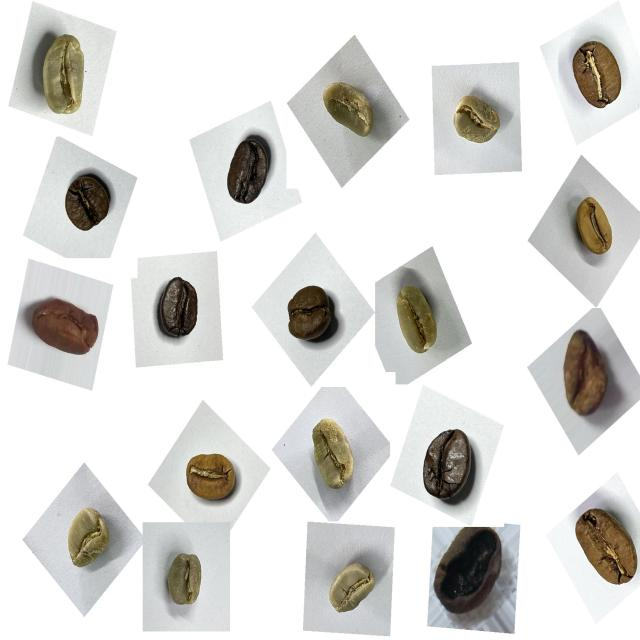bad: (426, 524, 514, 631), (547, 320, 621, 426), (21, 288, 104, 372)
dark: (410, 418, 484, 514), (211, 127, 280, 220), (149, 266, 214, 350)
green: (25, 20, 101, 128), (384, 274, 451, 367), (300, 411, 365, 504), (314, 71, 387, 151), (56, 500, 121, 582), (317, 550, 385, 628), (442, 83, 512, 158), (154, 545, 214, 620)
light: (177, 442, 246, 515), (565, 190, 624, 268)
medium: (563, 498, 640, 601), (562, 31, 635, 121), (278, 276, 343, 354), (54, 165, 118, 244)
